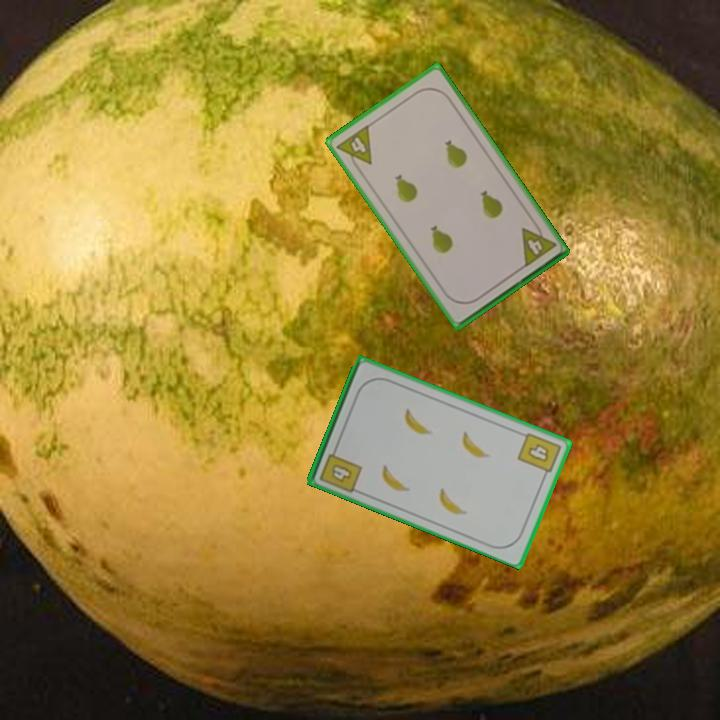4b: (514, 429, 564, 482), (316, 442, 365, 496)
4p: (333, 121, 375, 175), (517, 218, 559, 270)
